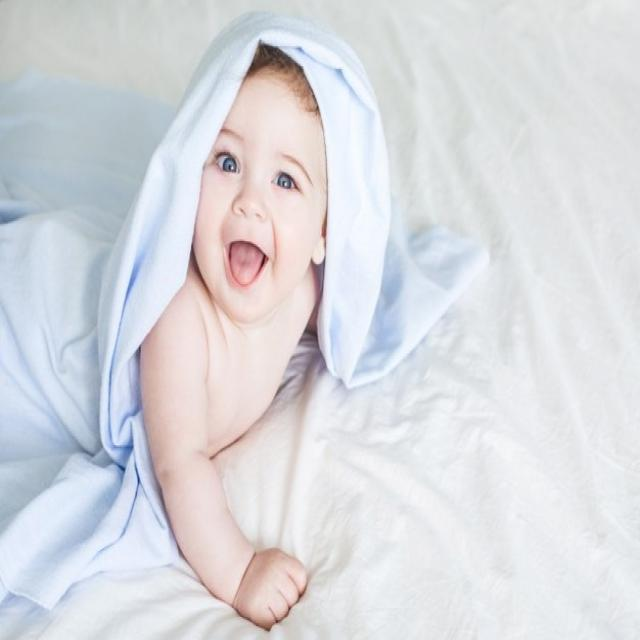non-dog: (143, 37, 332, 634)
